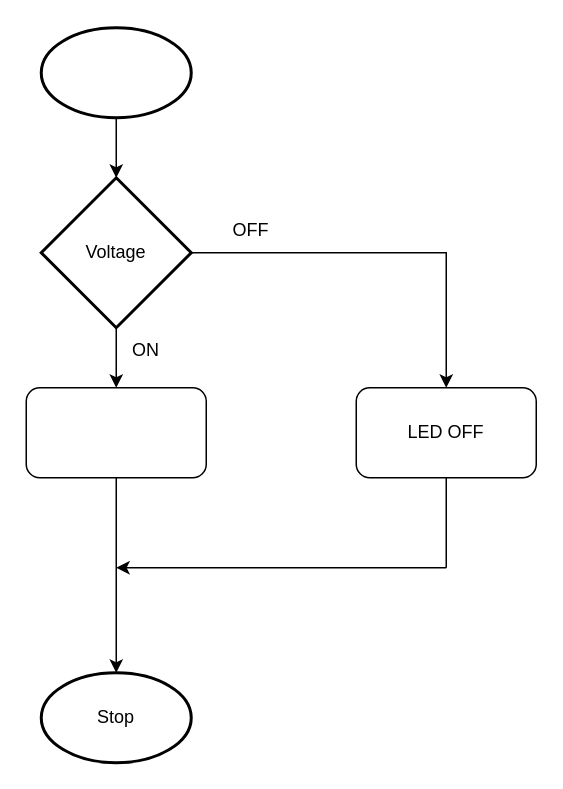
Some shapes in this 563 by 789 pixel diagram are drawn without their labels. Each missing label, with the box of its shape:
LED Blinks: (25, 386, 206, 478)
Start: (39, 26, 192, 118)
